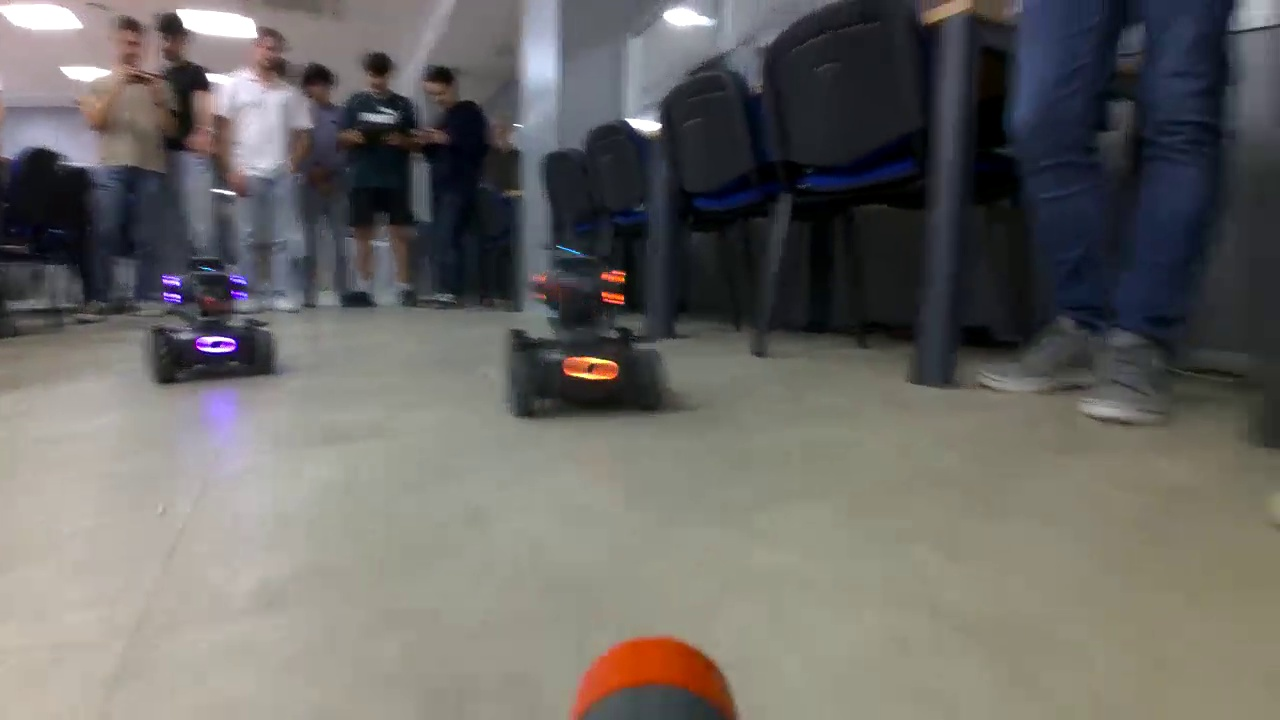robot: (508, 255, 664, 415), (151, 254, 275, 385)
